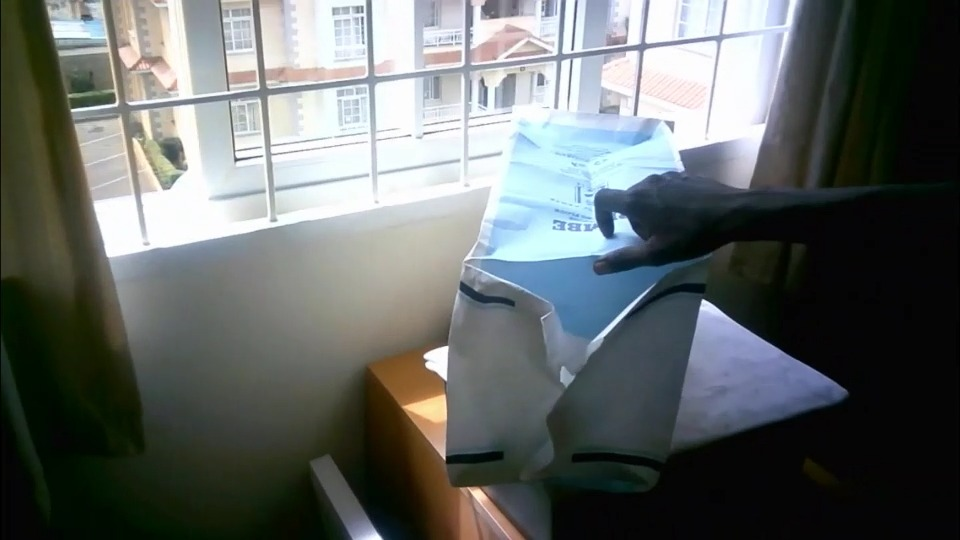wheat_flour_blue_label: (444, 103, 698, 489)
